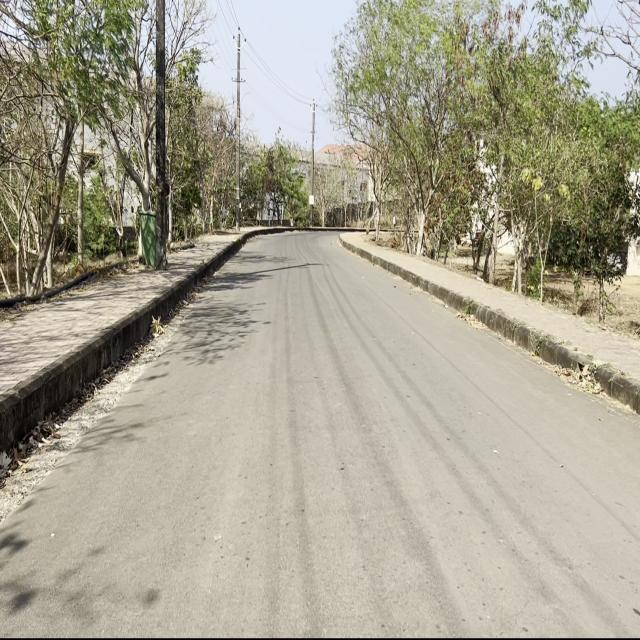Road: (3, 232, 636, 635)
